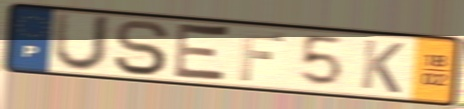5: (298, 34, 345, 90)
E: (170, 20, 234, 86)
F: (236, 28, 288, 83)
K: (357, 37, 407, 96)
S: (111, 18, 172, 78)
U: (49, 10, 115, 74)
